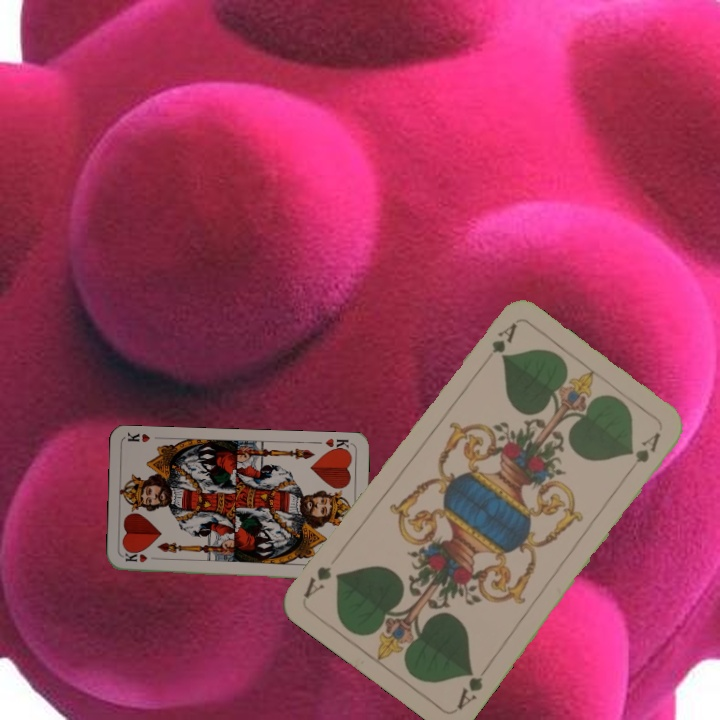GA: (477, 319, 519, 370), (452, 661, 492, 712)
HK: (121, 549, 161, 565), (321, 435, 352, 455)
